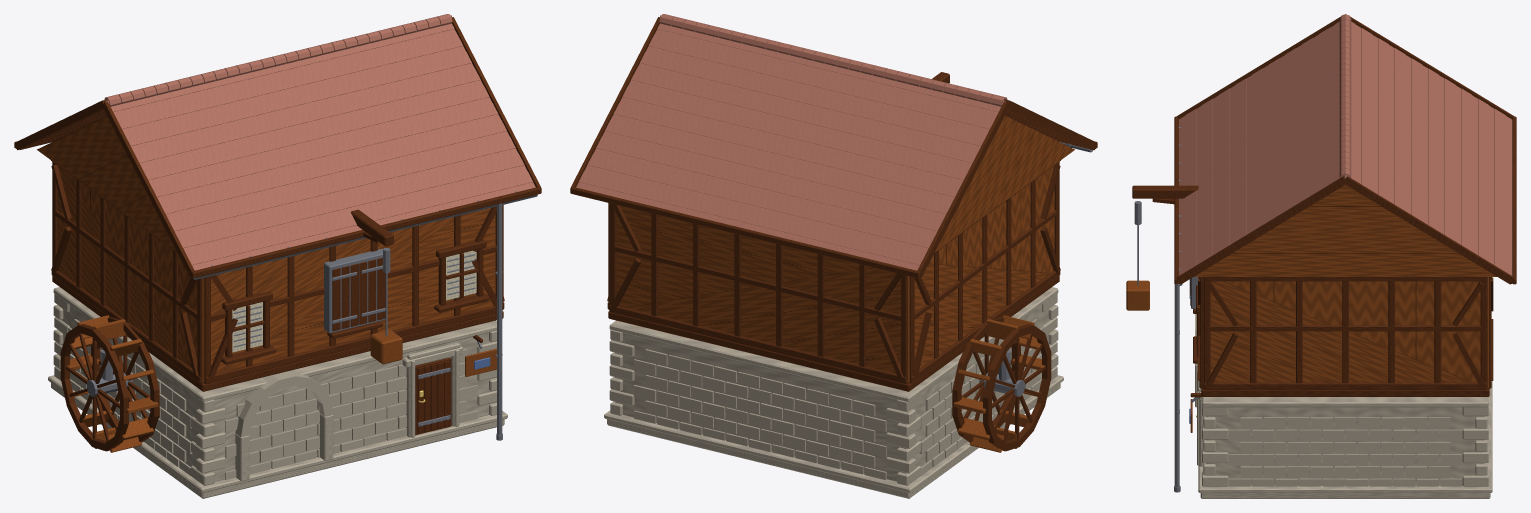
The model's file is fantasy-mmo-city-and-townsfolk-dock-warehouse-3f3fafc2__32745.glb.
3 views of the same model, side by side, from view 1: azimuth 30°, elevation 25°; view 2: azimuth 150°, elevation 25°; view 3: azimuth 270°, elevation 25° (orthographic). The views are drawn at different scales.
Parts seen in each view (by area): view 1: dock-warehouse, waterwheel/timber, waterwheel/wood, door/timber, door-load-l, door-load-r; view 2: dock-warehouse, waterwheel/timber, waterwheel/wood; view 3: dock-warehouse.
Boxes of the visible parts, box(x1,y1,x2,y2) form: dock-warehouse: box(14, 14, 541, 498); waterwheel/timber: box(60, 317, 159, 451); waterwheel/wood: box(67, 315, 158, 452); door/timber: box(415, 357, 451, 435); door-load-l: box(332, 263, 358, 331); door-load-r: box(359, 257, 385, 324); dock-warehouse: box(570, 14, 1097, 498); waterwheel/timber: box(952, 317, 1051, 451); waterwheel/wood: box(953, 315, 1044, 452); dock-warehouse: box(1126, 14, 1516, 498).
Bounding box in the file's own units: 13.54 × 12.58 × 13.27.
8 materials, 6 textured.
